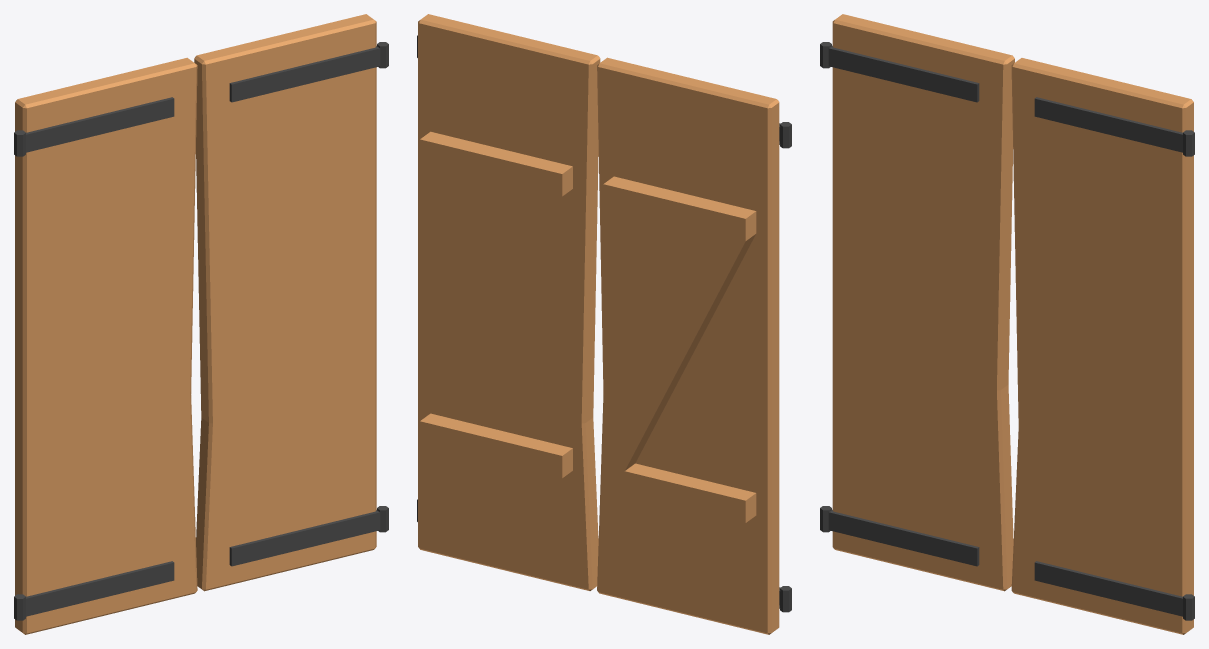
File: Window_cover_small.fbx
The picture shows the model from 3 angles, left to right: view 1: azimuth 30°, elevation 25°; view 2: azimuth 150°, elevation 25°; view 3: azimuth 330°, elevation 25°; orthographic projection.
Parts seen in each view (by area): view 1: Window_cover_small_1_low, Window_cover_small_2_low; view 2: Window_cover_small_2_low, Window_cover_small_1_low; view 3: Window_cover_small_2_low, Window_cover_small_1_low.
Boxes of the visible parts, box(x1,y1,x2,y2) form: Window_cover_small_1_low: box(194, 14, 388, 591); Window_cover_small_2_low: box(14, 57, 197, 634); Window_cover_small_2_low: box(597, 57, 791, 634); Window_cover_small_1_low: box(417, 14, 600, 590); Window_cover_small_2_low: box(820, 14, 1014, 591); Window_cover_small_1_low: box(1011, 58, 1194, 634).
Bounding box in the file's own units: 146 × 199 × 16.74.
